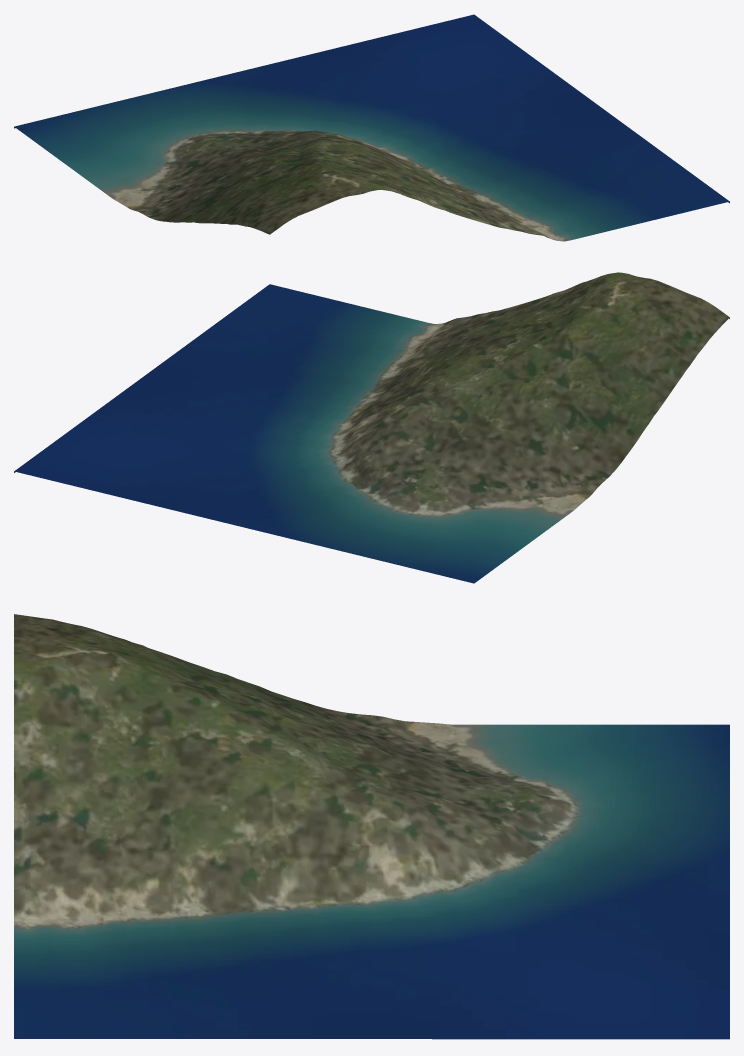
The picture shows the model from 3 angles, top to bottom: view 1: azimuth 30°, elevation 25°; view 2: azimuth 150°, elevation 25°; view 3: azimuth 270°, elevation 25°; orthographic projection. The views are drawn at different scales.
Size of the model in its own units: 250 by 52.16 by 241.
Materials: 1 (1 with a texture image).
